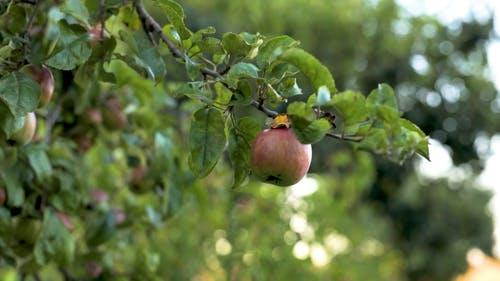apple: (248, 122, 312, 187)
